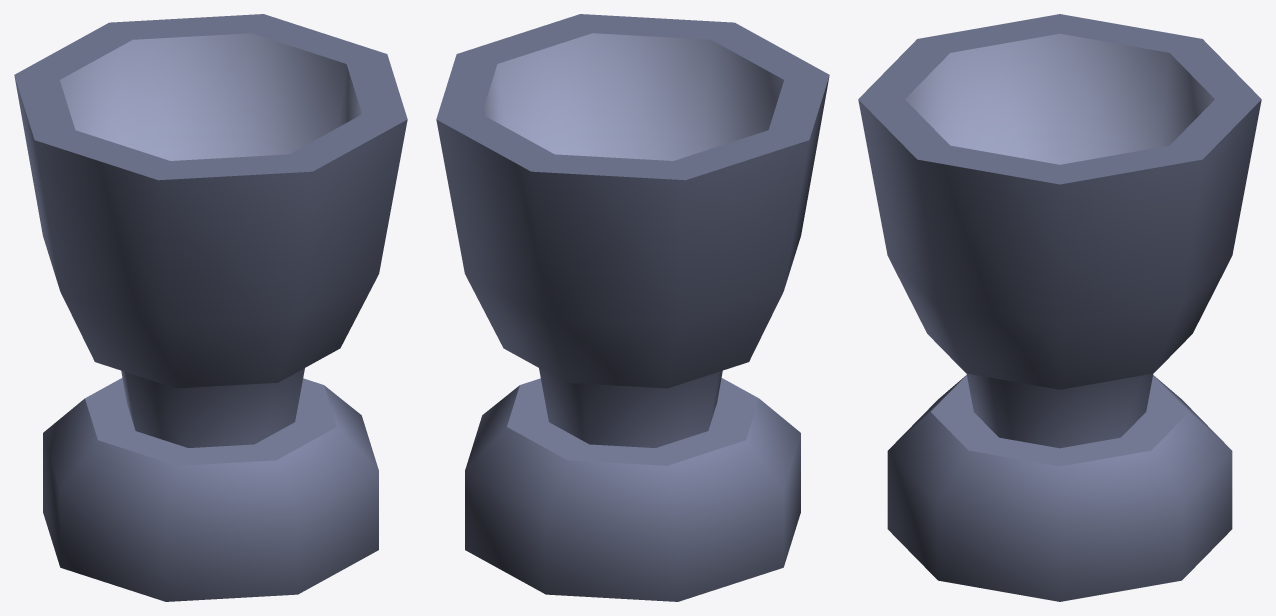
The model's file is urn-round_lev2.glb.
3 views of the same model, side by side, from view 1: azimuth 30°, elevation 25°; view 2: azimuth 150°, elevation 25°; view 3: azimuth 270°, elevation 25° (orthographic).
Parts seen in each view (by area): view 1: urn-round_lev2; view 2: urn-round_lev2; view 3: urn-round_lev2.
Part boxes in pixels (x1,y1,x2,y2): urn-round_lev2: (14,14,407,601); urn-round_lev2: (436,14,829,601); urn-round_lev2: (858,14,1261,601).
Size of the model in its own units: 0.234 by 0.275 by 0.234.
1 material, 1 textured.
